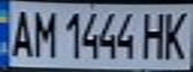1: (60, 8, 81, 59)
4: (115, 8, 142, 60), (96, 8, 121, 60), (78, 8, 100, 60)
A: (6, 6, 36, 58)
H: (139, 8, 172, 60)
K: (157, 7, 193, 61)
M: (30, 7, 60, 58)
